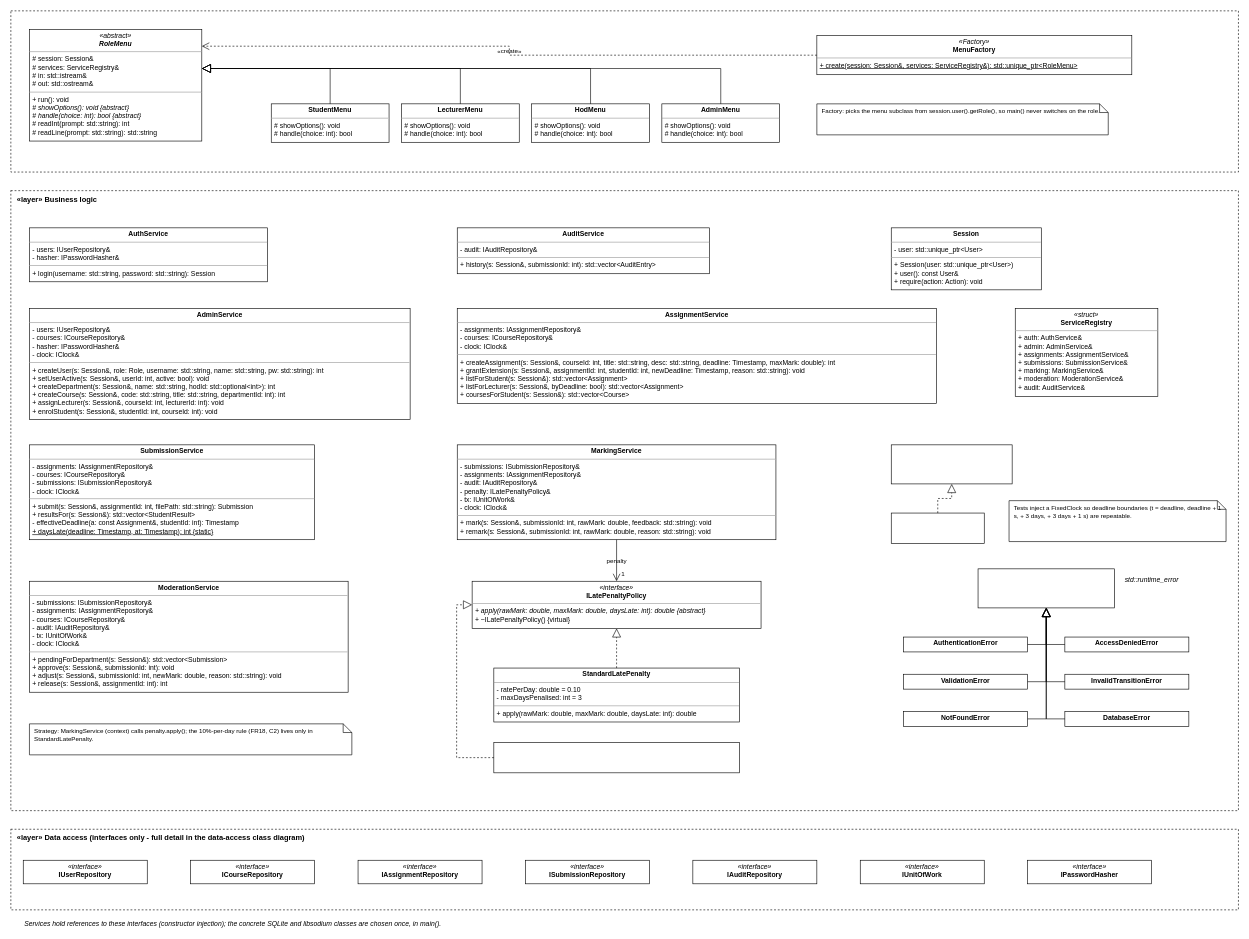
The diagram is 1249 pixels wide and 939 high, and some of its shapes have lost their labels. The box of each missing label's shape, as (x1, y1, x2, y2) in pixels:
NoLatePenalty + apply(rawMark: double, maxMark: double, daysLate: int): double: (493, 742, 739, 773)
SystemClock + now(): Timestamp: (891, 512, 984, 543)
«exception» LmsError + LmsError(message: std::string): (977, 568, 1114, 608)
«interface» IClock + now(): Timestamp {abstract}: (891, 444, 1012, 484)
«layer» Presentation: (10, 10, 1238, 172)
